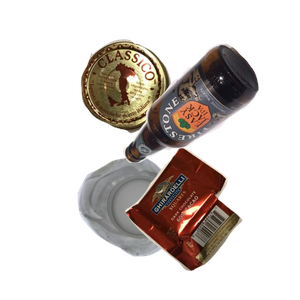glass: (120, 41, 300, 196)
metal: (78, 37, 243, 163)
plastic: (75, 154, 248, 300)
trash: (123, 145, 300, 300)
